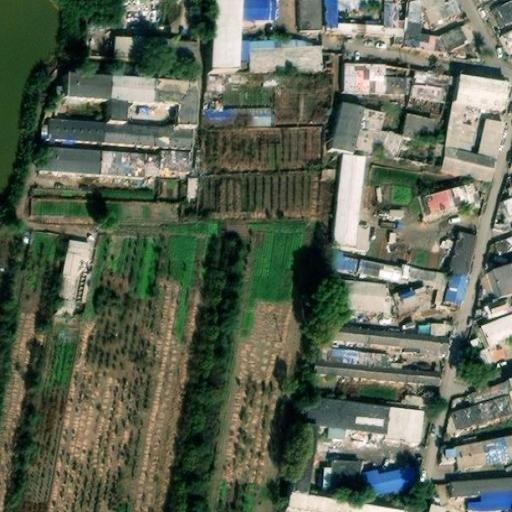building: (300, 397, 427, 444), (110, 74, 200, 126), (318, 320, 450, 355), (445, 101, 506, 158), (404, 1, 473, 50), (331, 156, 368, 246), (311, 362, 437, 387), (240, 38, 323, 74), (103, 147, 195, 179), (55, 238, 93, 314), (445, 430, 512, 471), (104, 124, 196, 150), (355, 108, 398, 159), (455, 73, 511, 112), (363, 460, 420, 498), (342, 60, 405, 94), (420, 183, 480, 218), (320, 0, 381, 34), (440, 147, 496, 183), (332, 281, 387, 317), (36, 146, 104, 174), (289, 495, 395, 512), (322, 458, 365, 498), (47, 116, 106, 144), (293, 423, 316, 494), (115, 35, 180, 60), (332, 102, 364, 151), (433, 267, 468, 309), (463, 378, 511, 407), (208, 107, 270, 127), (68, 72, 113, 99), (449, 230, 476, 274), (318, 349, 384, 367), (380, 0, 407, 43), (477, 331, 512, 364), (356, 258, 402, 283), (414, 71, 450, 102), (402, 110, 435, 140), (329, 247, 360, 274), (396, 288, 427, 313), (295, 0, 320, 29), (400, 267, 436, 287), (412, 319, 452, 337), (242, 0, 276, 19), (490, 1, 512, 27), (498, 193, 512, 223), (494, 230, 512, 250), (389, 199, 410, 216), (499, 30, 512, 55), (427, 503, 445, 512)
